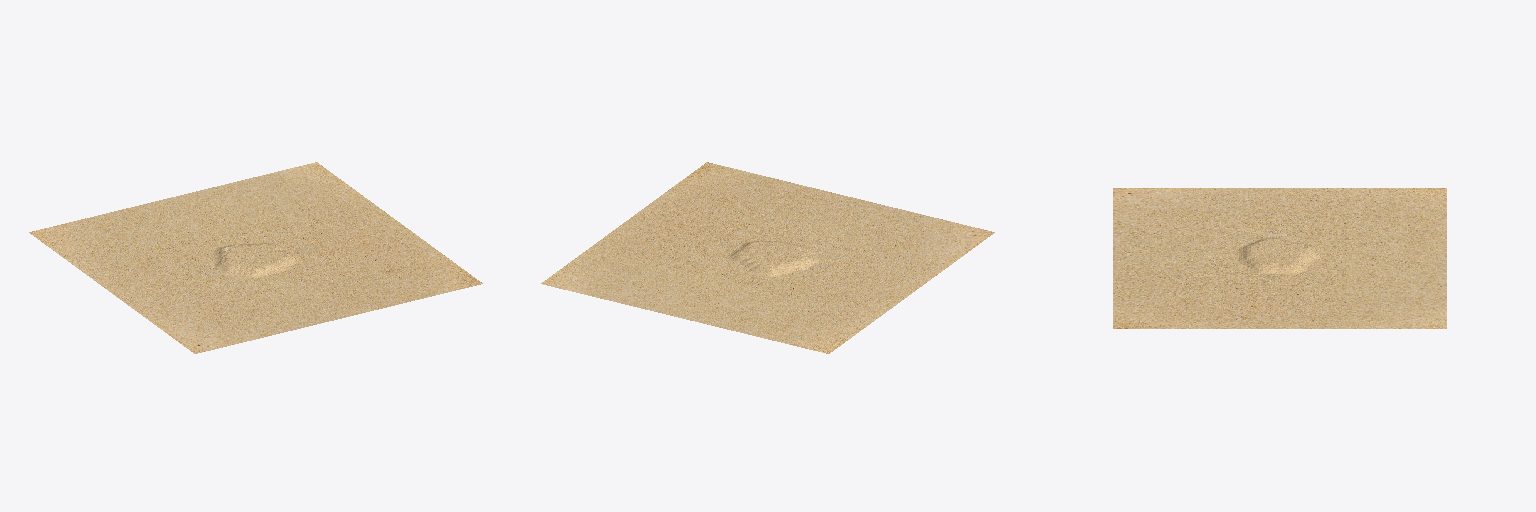
3 views of the same model, side by side, from view 1: azimuth 30°, elevation 25°; view 2: azimuth 150°, elevation 25°; view 3: azimuth 270°, elevation 25° (orthographic).
Visible parts, largest first — view 1: Plane.001; view 2: Plane.001; view 3: Plane.001.
Part boxes in pixels (left/top/right/bottom): Plane.001: left=29, top=162, right=482, bottom=353; Plane.001: left=541, top=162, right=994, bottom=353; Plane.001: left=1113, top=188, right=1446, bottom=328.
Bounding box in the file's own units: 78 × 1.14 × 78.
Materials: 2 (1 with a texture image).